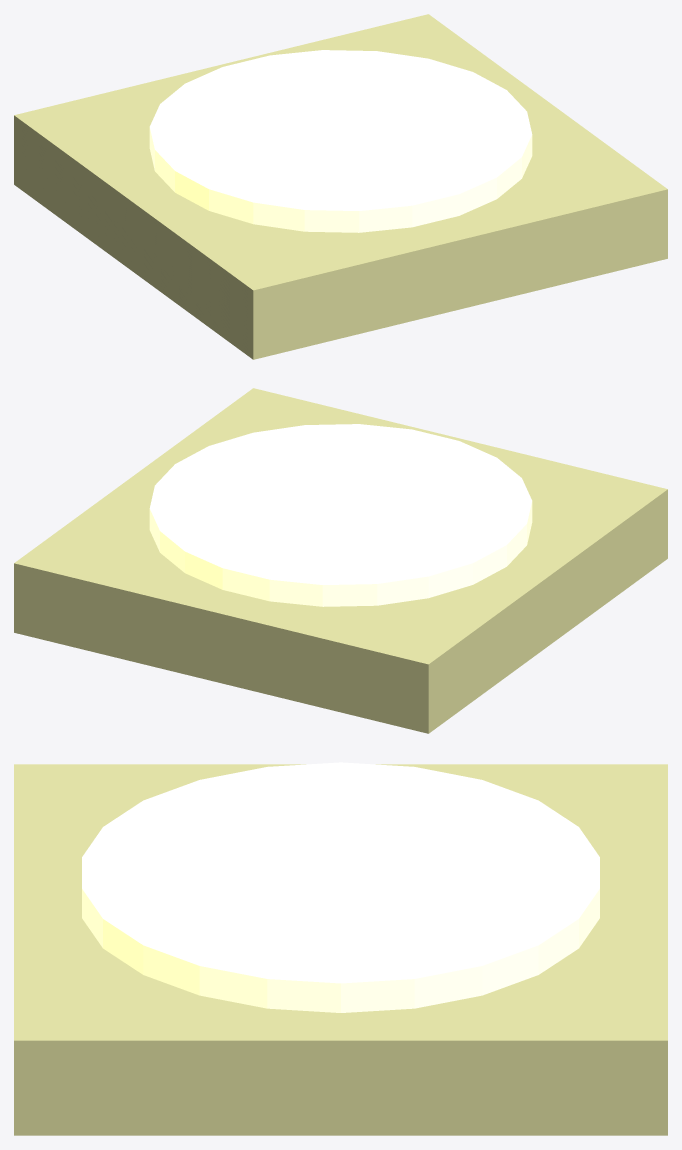
Rendered from Goal_Thin.glb.
The picture shows the model from 3 angles, top to bottom: view 1: azimuth 30°, elevation 25°; view 2: azimuth 150°, elevation 25°; view 3: azimuth 270°, elevation 25°; orthographic projection. The views are drawn at different scales.
Parts seen in each view (by area): view 1: Goal_Thin_body, glow_disc.004; view 2: Goal_Thin_body, glow_disc.004; view 3: Goal_Thin_body, glow_disc.004.
Boxes of the visible parts, x1=… form: Goal_Thin_body: x1=14, y1=14, x2=667, y2=359; glow_disc.004: x1=149, y1=50, x2=532, y2=232; Goal_Thin_body: x1=14, y1=388, x2=667, y2=733; glow_disc.004: x1=149, y1=424, x2=532, y2=606; Goal_Thin_body: x1=14, y1=764, x2=667, y2=1135; glow_disc.004: x1=82, y1=762, x2=599, y2=1012.
Size of the model in its own units: 1 by 0.21 by 1.
